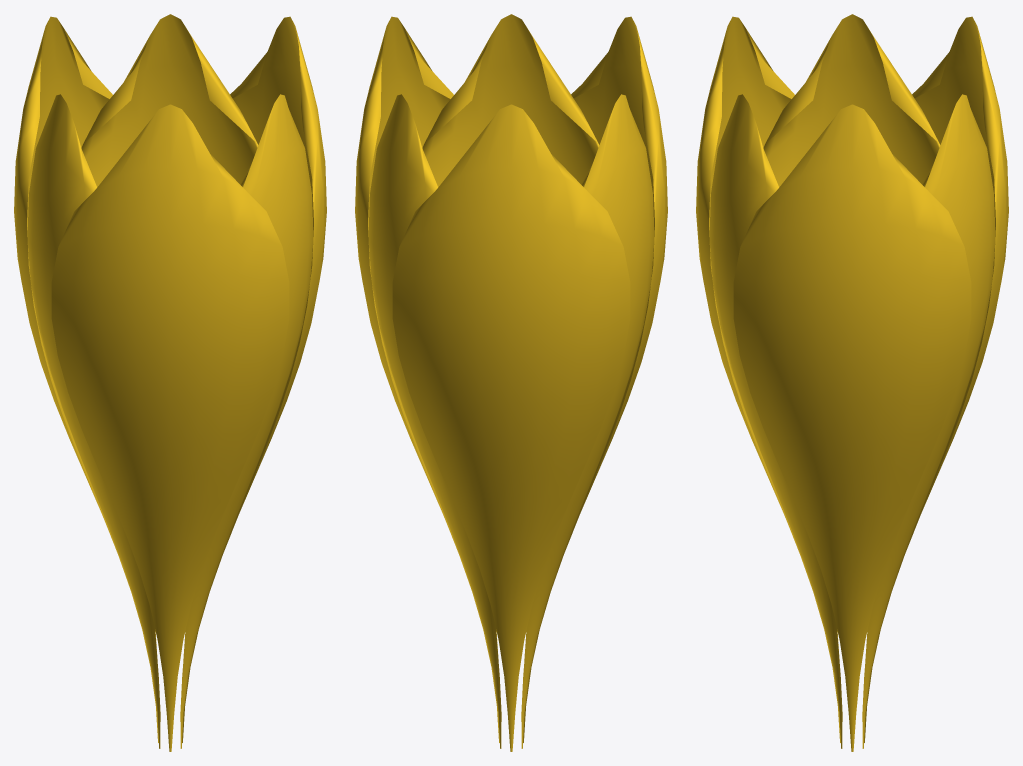
Rendered from garden-tulip-bloom-head-1.glb.
The picture shows the model from 3 angles, left to right: view 1: azimuth 30°, elevation 25°; view 2: azimuth 150°, elevation 25°; view 3: azimuth 270°, elevation 25°; orthographic projection.
Visible parts, largest first — view 1: tulip-bloom-head-1; view 2: tulip-bloom-head-1; view 3: tulip-bloom-head-1.
Boxes of the visible parts, <box> form: tulip-bloom-head-1: <box>14,14,326,751</box>; tulip-bloom-head-1: <box>355,14,667,751</box>; tulip-bloom-head-1: <box>696,14,1008,751</box>.
Size of the model in its own units: 0.0656 by 0.164 by 0.0664.
